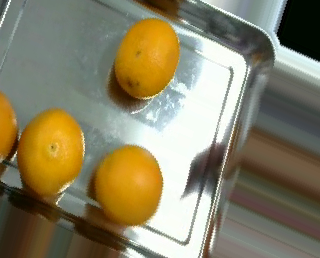Orange: (18, 106, 86, 197), (93, 143, 162, 225), (114, 17, 180, 99)
